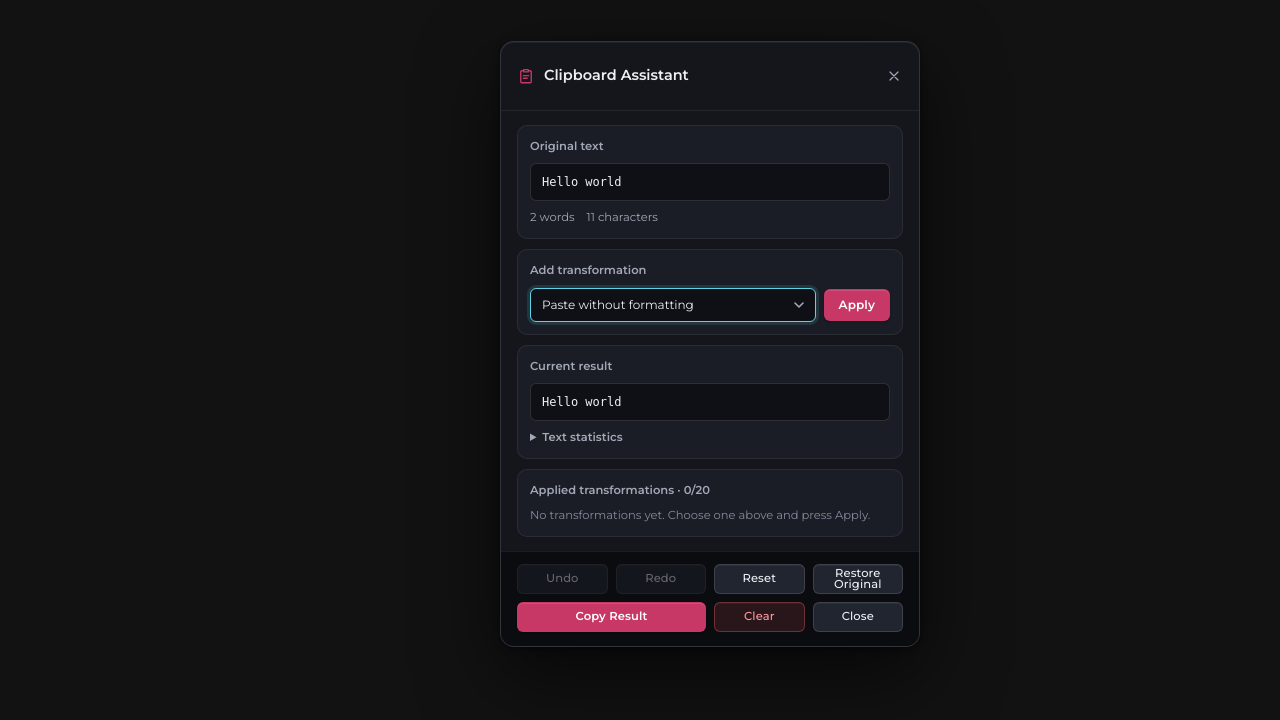
Test: ClipboardPanel actions › undoes, redoes, resets and restores without silently changing the clipboard
The image size is (1280, 720).
Step 1. Select "UPPERCASE" in the dropdown with id "clipboard-transform" → point(673, 305), box x1=530 y1=288 x2=816 y2=322
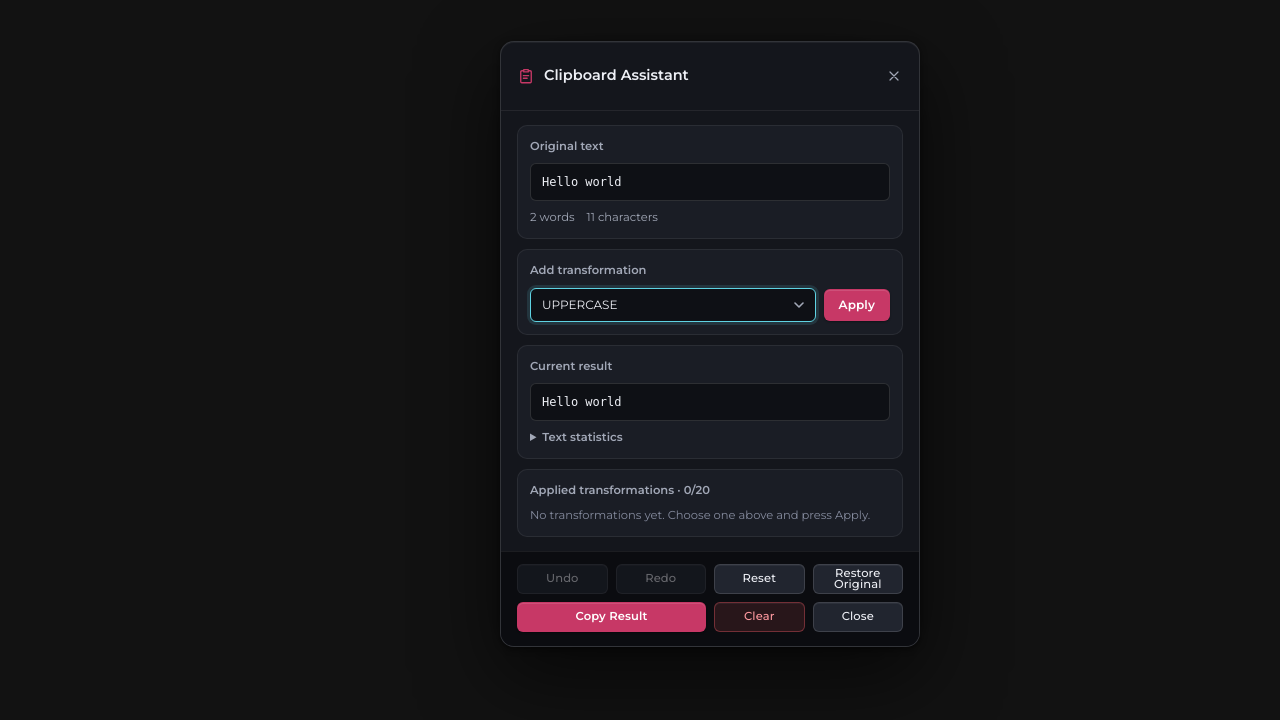
Step 2. Click the button "Apply" → point(857, 305), box x1=824 y1=289 x2=890 y2=321
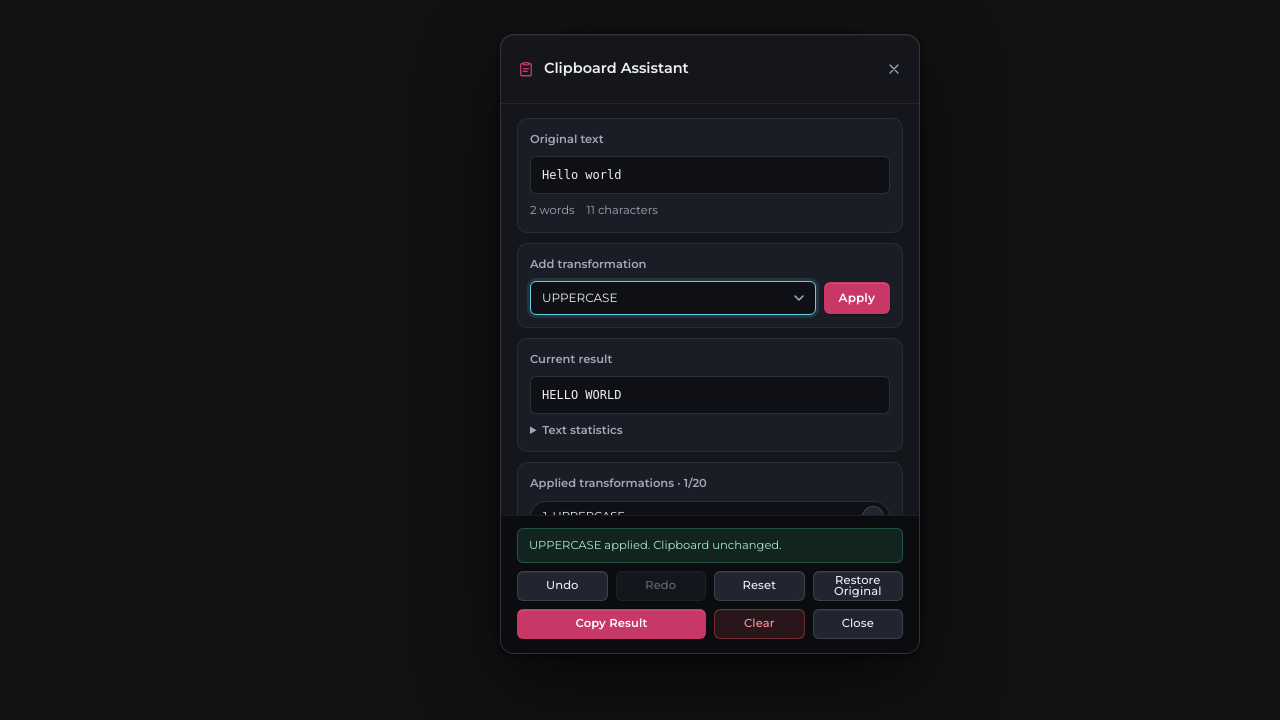
Now the text with class "result" reads "HELLO WORLD", box x1=542 y1=388 x2=622 y2=402
Step 3. Click the button "Undo" → point(562, 586), box x1=517 y1=571 x2=608 y2=601
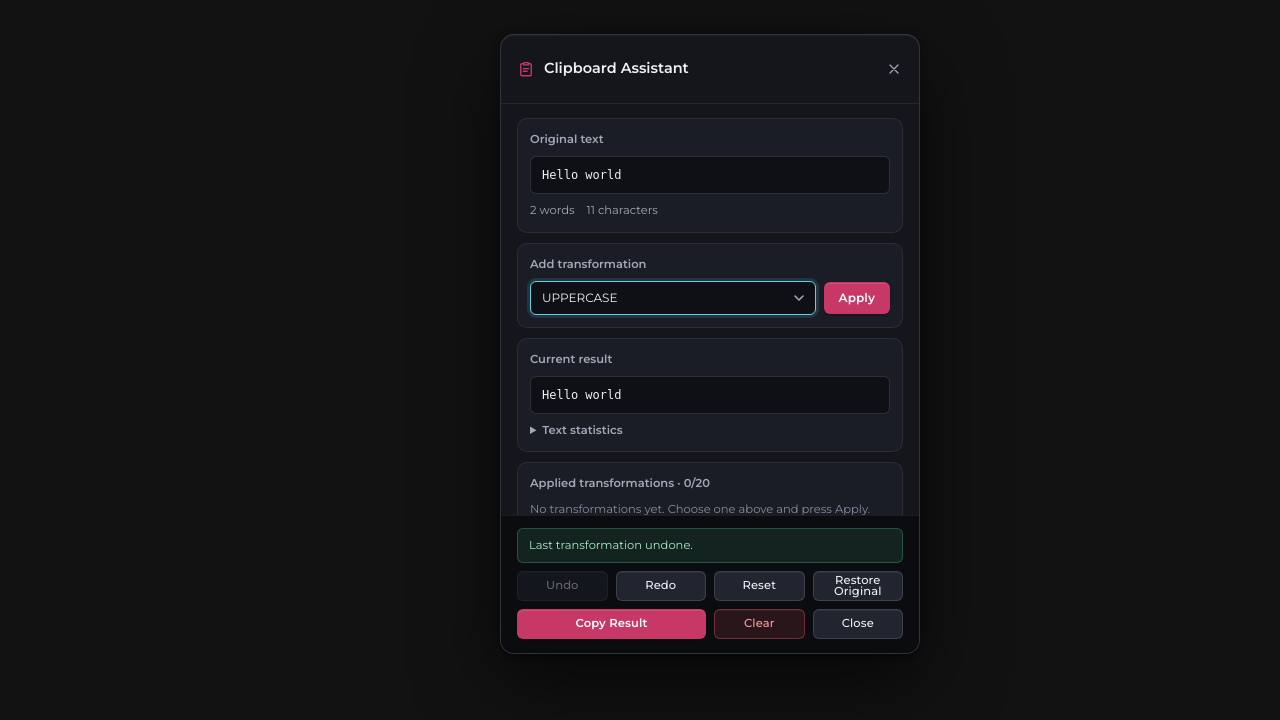
Now the text with class "result" reads "Hello world", box x1=542 y1=388 x2=622 y2=402
Step 4. Click the button "Redo" → point(661, 586), box x1=616 y1=571 x2=706 y2=601
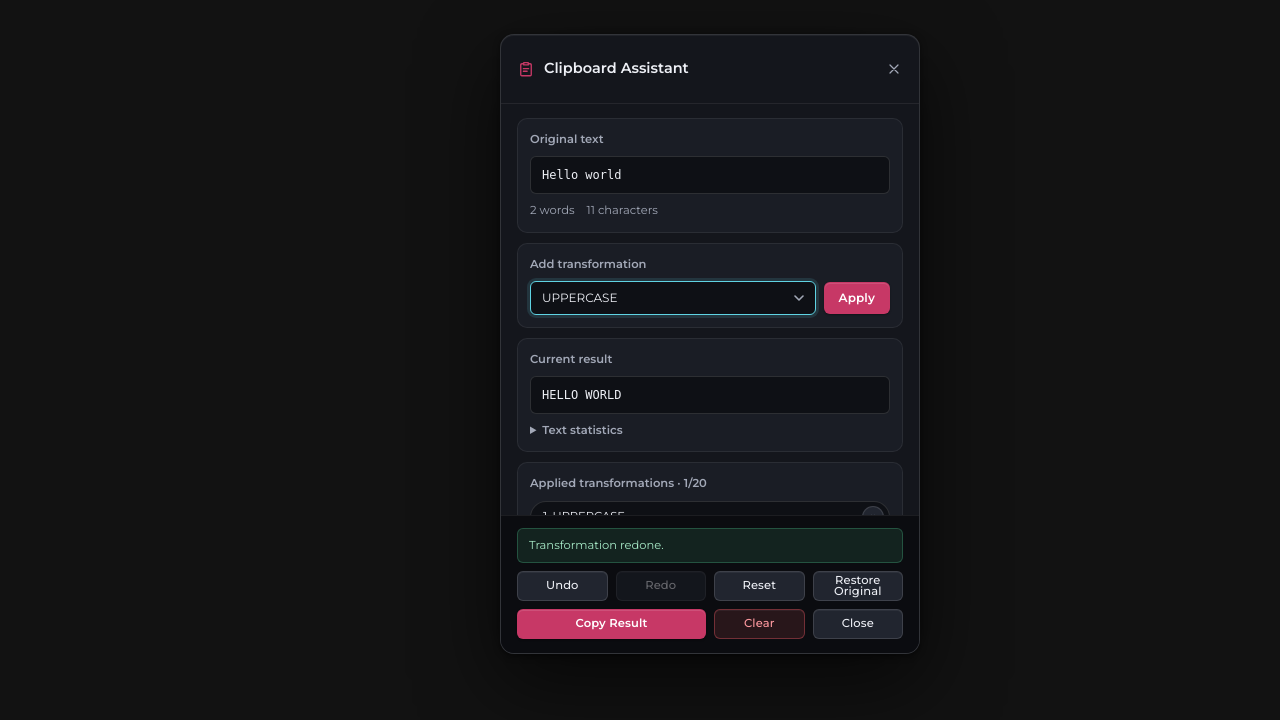
Now the text with class "result" reads "HELLO WORLD", box x1=542 y1=388 x2=622 y2=402
Step 5. Click the button "Restore Original" → point(858, 586), box x1=812 y1=571 x2=903 y2=601
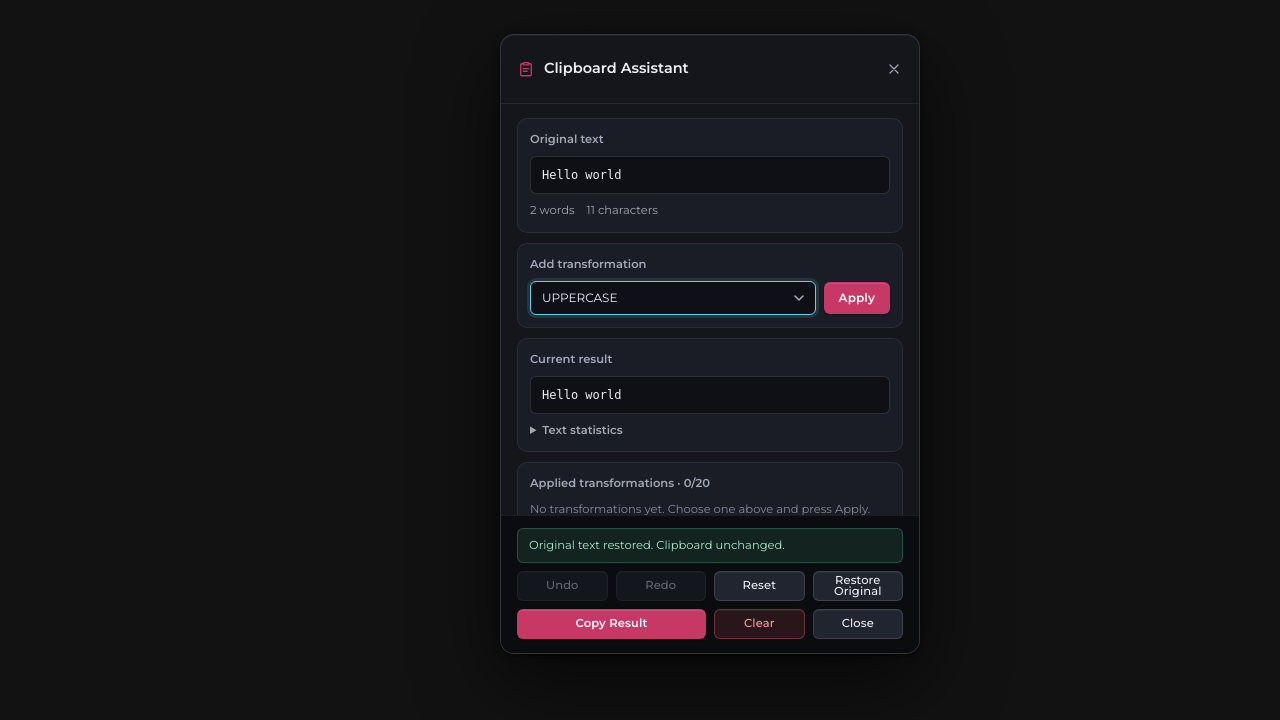
Now the text with class "result" reads "Hello world", box x1=542 y1=388 x2=622 y2=402
